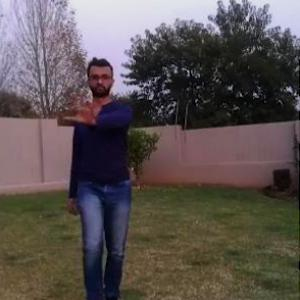follow_hand: (64, 91, 101, 126)
